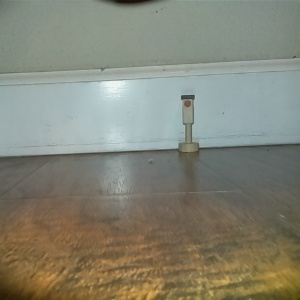traffic light red: (176, 93, 200, 155)
